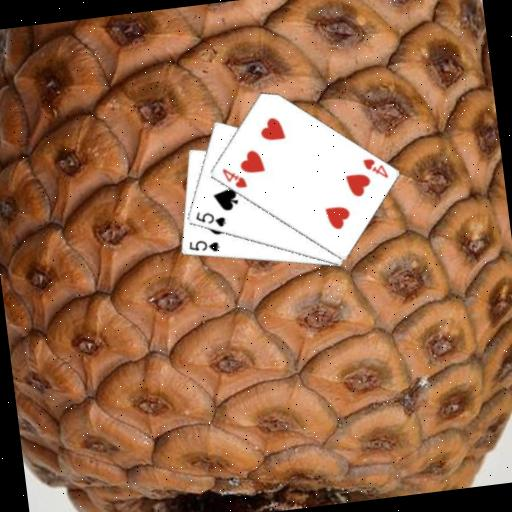4H: (218, 163, 249, 193), (359, 153, 390, 183)
5S: (192, 206, 228, 233), (185, 236, 222, 257)
